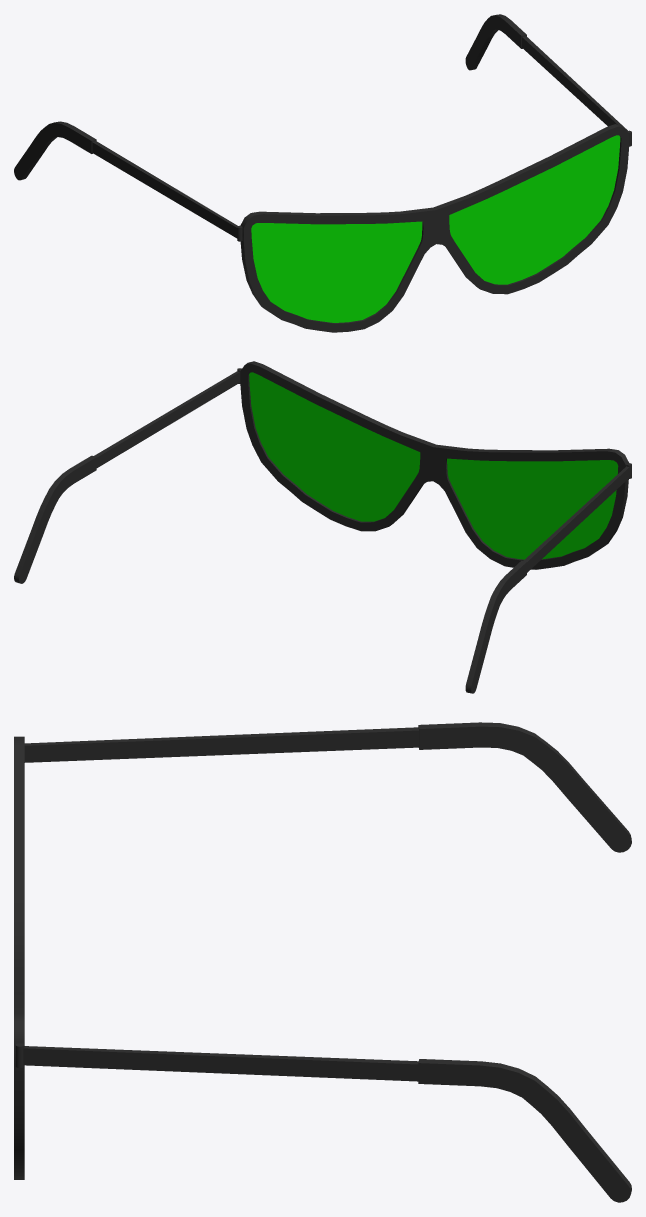
File: glasses-21.glb
3 renders of one model, top to bottom at view 1: azimuth 30°, elevation 25°; view 2: azimuth 150°, elevation 25°; view 3: azimuth 270°, elevation 25°, orthographic. The views are drawn at different scales.
Parts seen in each view (by area): view 1: glasses23.001; view 2: glasses23.001; view 3: glasses23.001.
Part boxes in pixels (left/top/right/bottom): glasses23.001: left=14, top=14, right=631, bottom=332; glasses23.001: left=14, top=361, right=631, bottom=693; glasses23.001: left=14, top=722, right=631, bottom=1202.
Bounding box in the file's own units: 2.2 × 0.6471 × 1.62.
